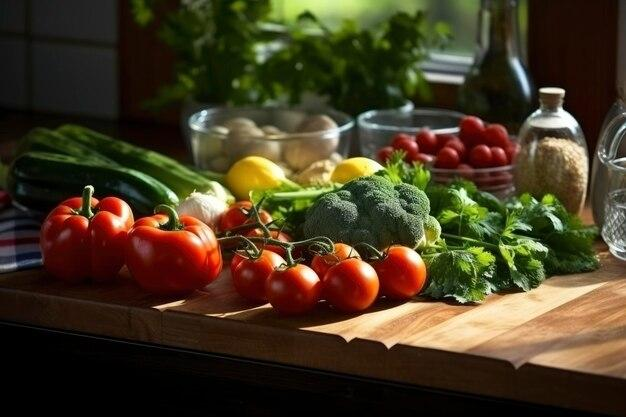bell pepper: (58, 169, 231, 293)
tomato: (255, 206, 421, 318)
